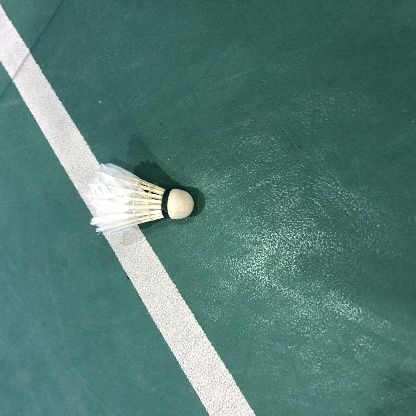ball_single: (86, 163, 194, 234)
